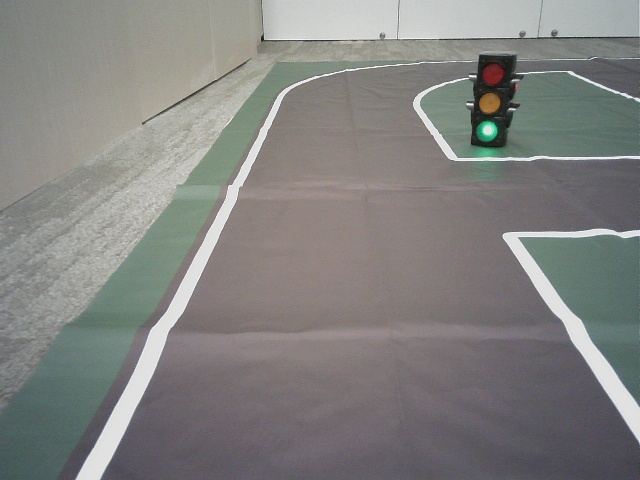green: (474, 57, 502, 141)
